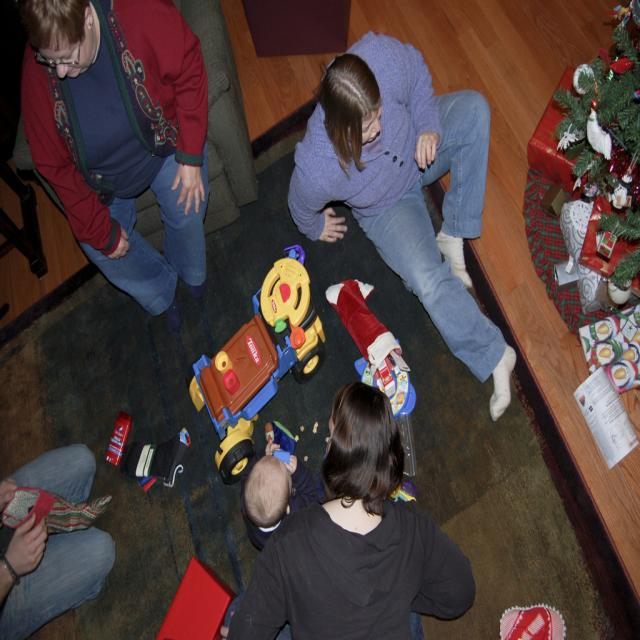Toy: (188, 245, 325, 488)
